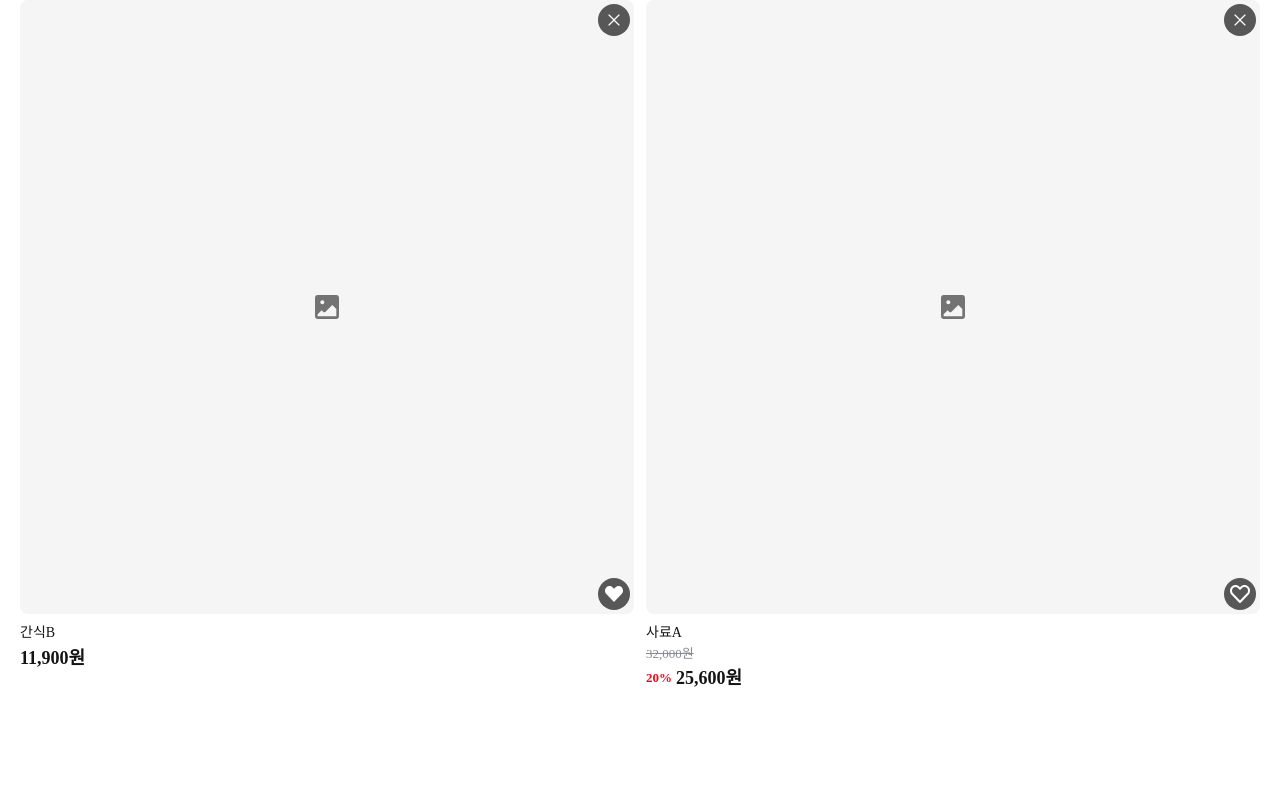
it: X를 누르면 확인 없이 바로 목록과 기록에서 빠진다
The image size is (1280, 800).
Click the button named "간식B 최근 본 목록에서 빼기" at (614, 20), box [598,4,630,36]
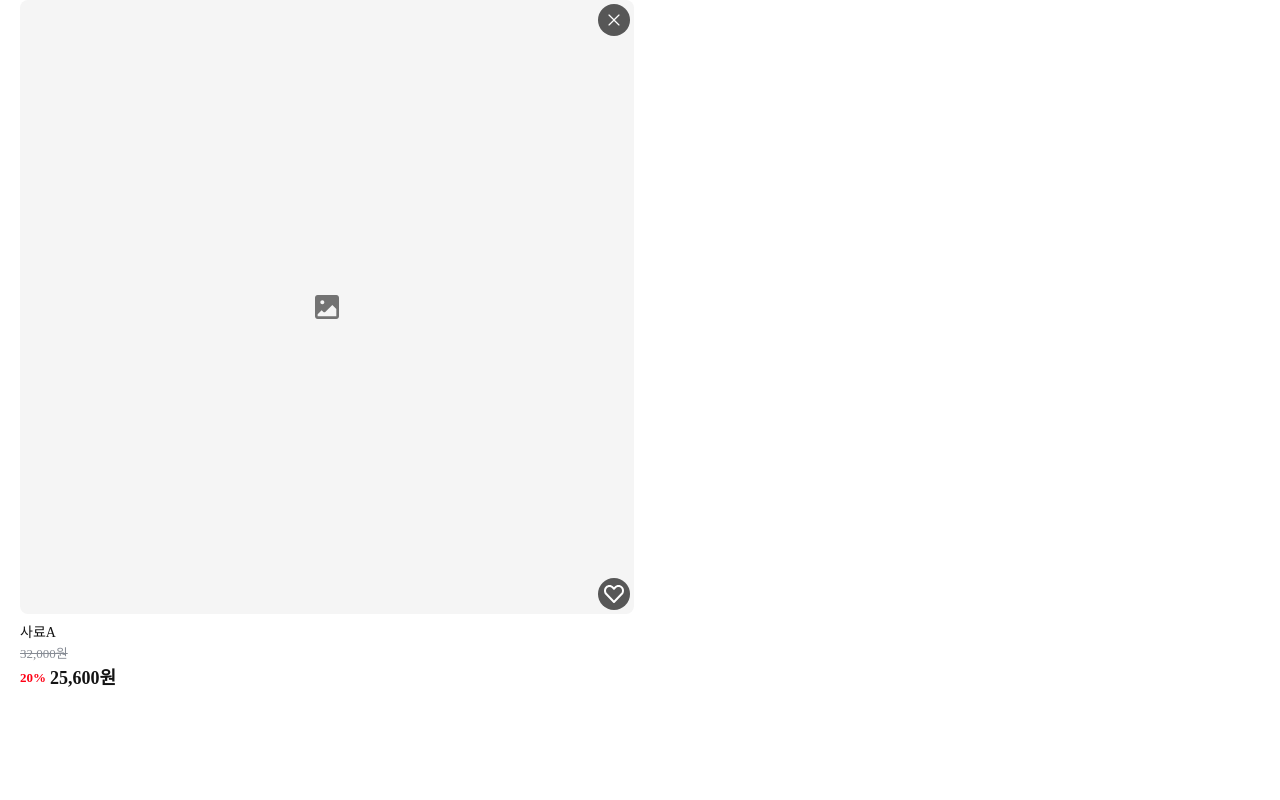
Result: the link "간식B" is gone
